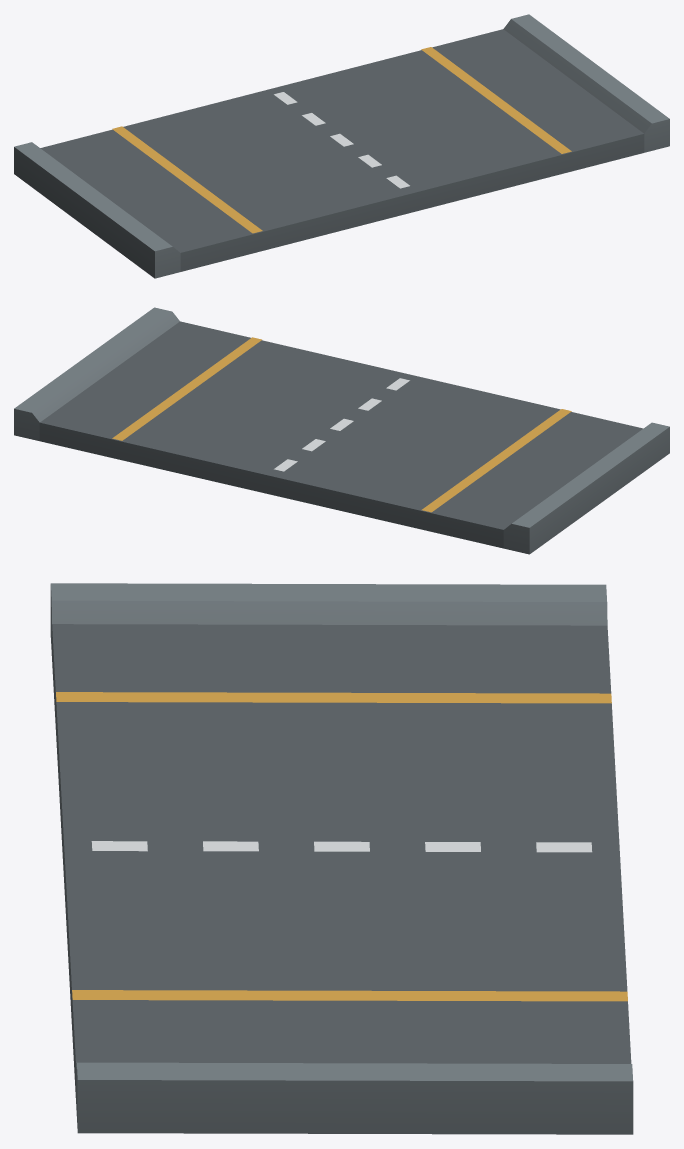
File: road22.002_lev3.glb
The picture shows the model from 3 angles, top to bottom: view 1: azimuth 30°, elevation 25°; view 2: azimuth 150°, elevation 25°; view 3: azimuth 270°, elevation 25°; orthographic projection. The views are drawn at different scales.
Visible parts, largest first — view 1: road_straight.022; view 2: road_straight.022; view 3: road_straight.022.
Part boxes in pixels (left/top/right/bottom): road_straight.022: left=14, top=14, right=669, bottom=278; road_straight.022: left=14, top=307, right=669, bottom=554; road_straight.022: left=50, top=583, right=633, bottom=1134.
Bounding box in the file's own units: 5.54 × 0.2765 × 2.74.
Materials: 1 (1 with a texture image).
